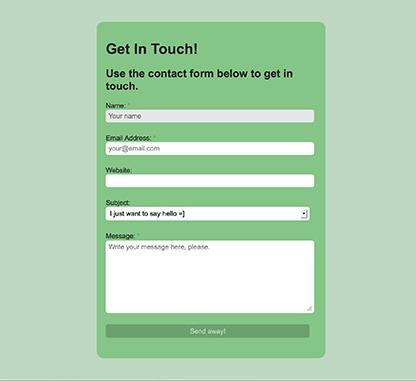button: (104, 323, 311, 339)
field: (103, 238, 315, 314), (104, 107, 317, 124), (103, 173, 316, 190), (103, 140, 315, 157), (105, 205, 312, 222)
field_with_label: (102, 232, 318, 315), (101, 165, 318, 192), (103, 101, 319, 126), (102, 133, 317, 158), (103, 199, 314, 224)
